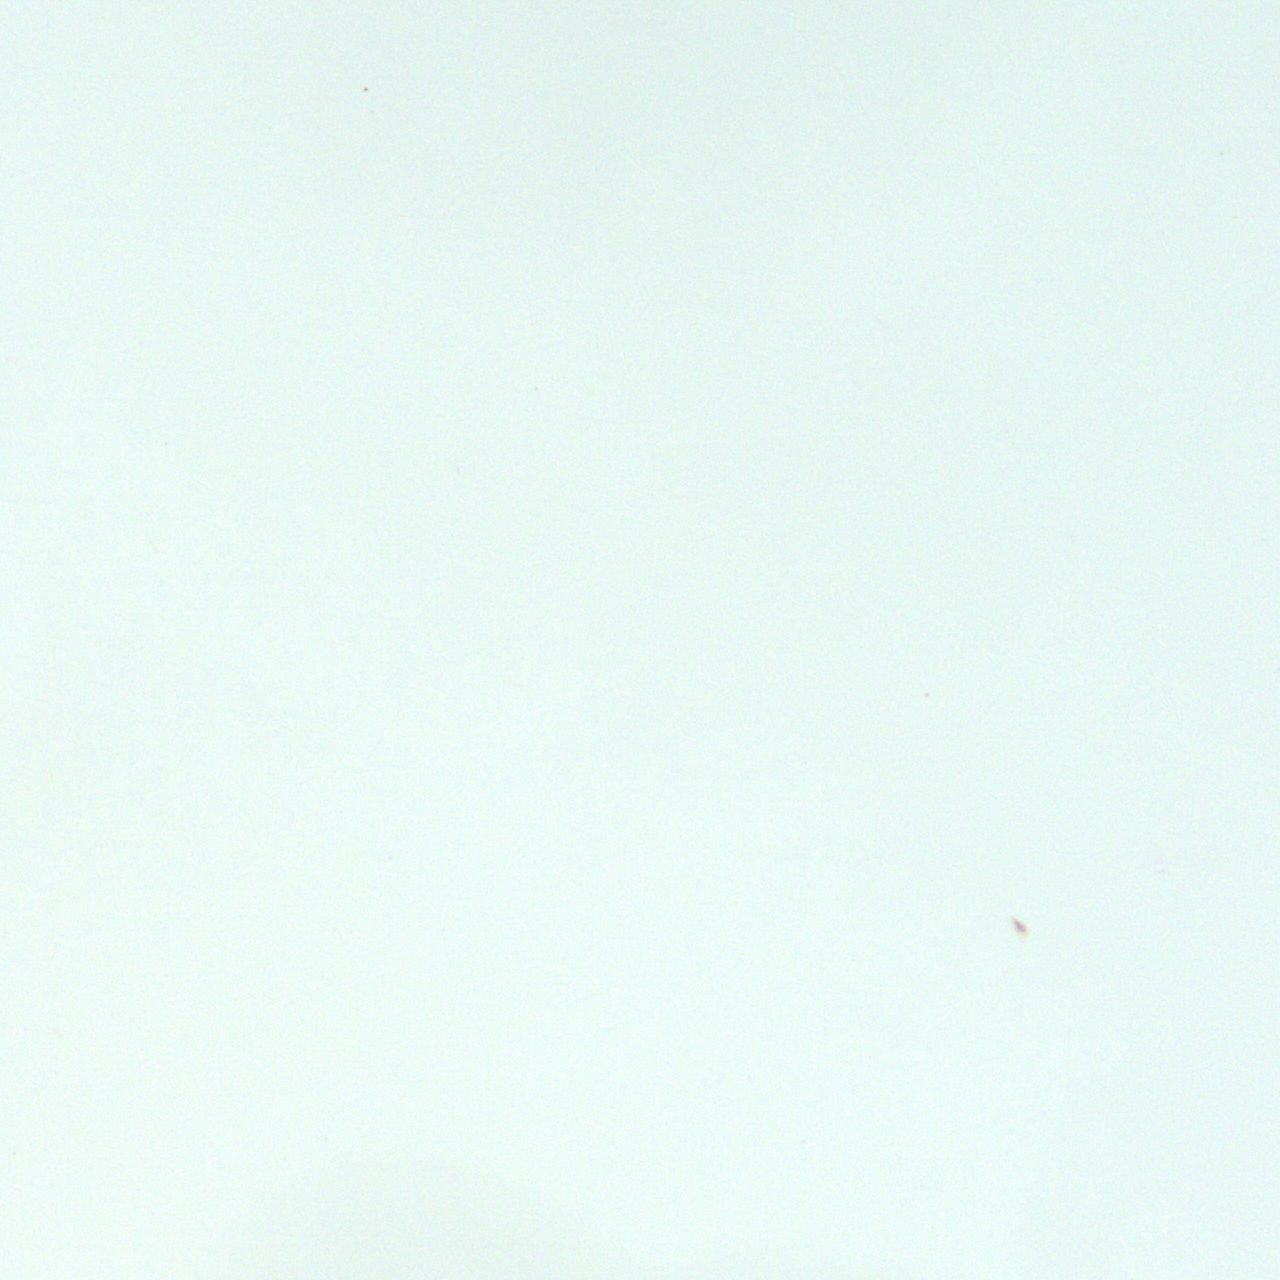dust: (1012, 915, 1027, 935), (362, 86, 369, 93)
